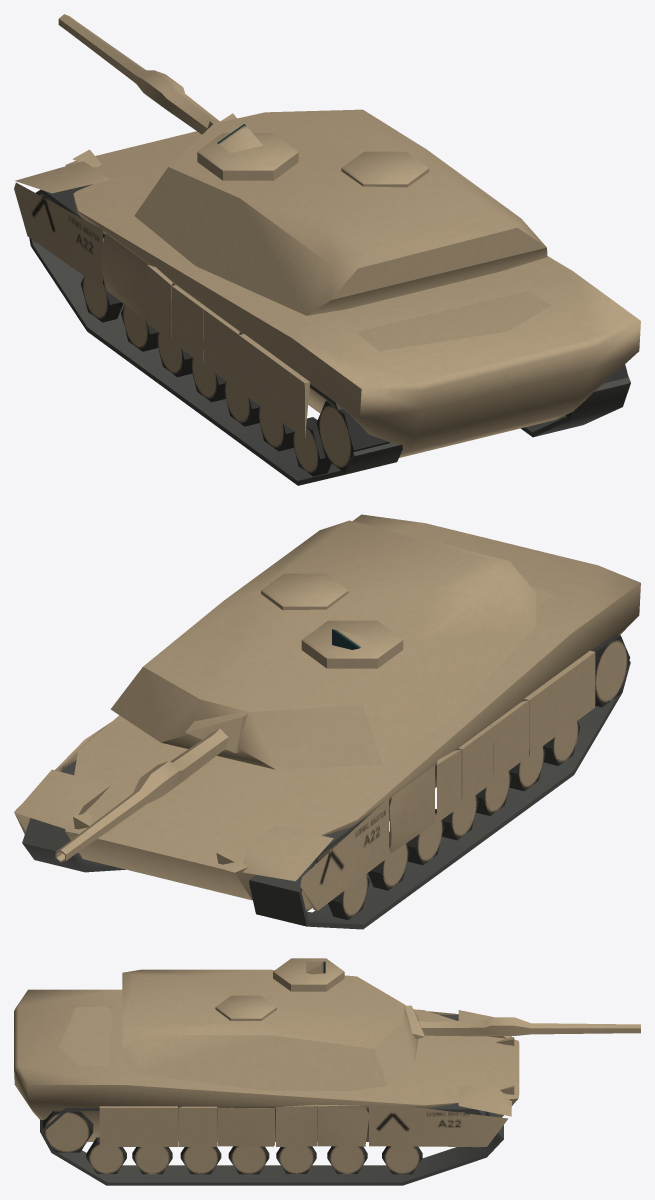
3 renders of one model, top to bottom at view 1: azimuth 30°, elevation 25°; view 2: azimuth 150°, elevation 25°; view 3: azimuth 270°, elevation 25°, orthographic. The views are drawn at different scales.
Visible parts, largest first — view 1: Body, Turret, Gun; view 2: Body, Turret, Gun; view 3: Body, Turret, Gun.
Boxes of the visible parts, <box> form: Body: <box>14,113,640,485</box>; Turret: <box>134,109,547,315</box>; Gun: <box>58,14,221,134</box>; Body: <box>14,514,640,929</box>; Turret: <box>110,520,536,769</box>; Gun: <box>55,711,247,862</box>; Body: <box>14,989,519,1185</box>; Turret: <box>122,958,417,1090</box>; Gun: <box>405,1005,640,1039</box>.
Bounding box in the file's own units: 3.66 × 2.78 × 9.79.
1 material, 1 textured.
